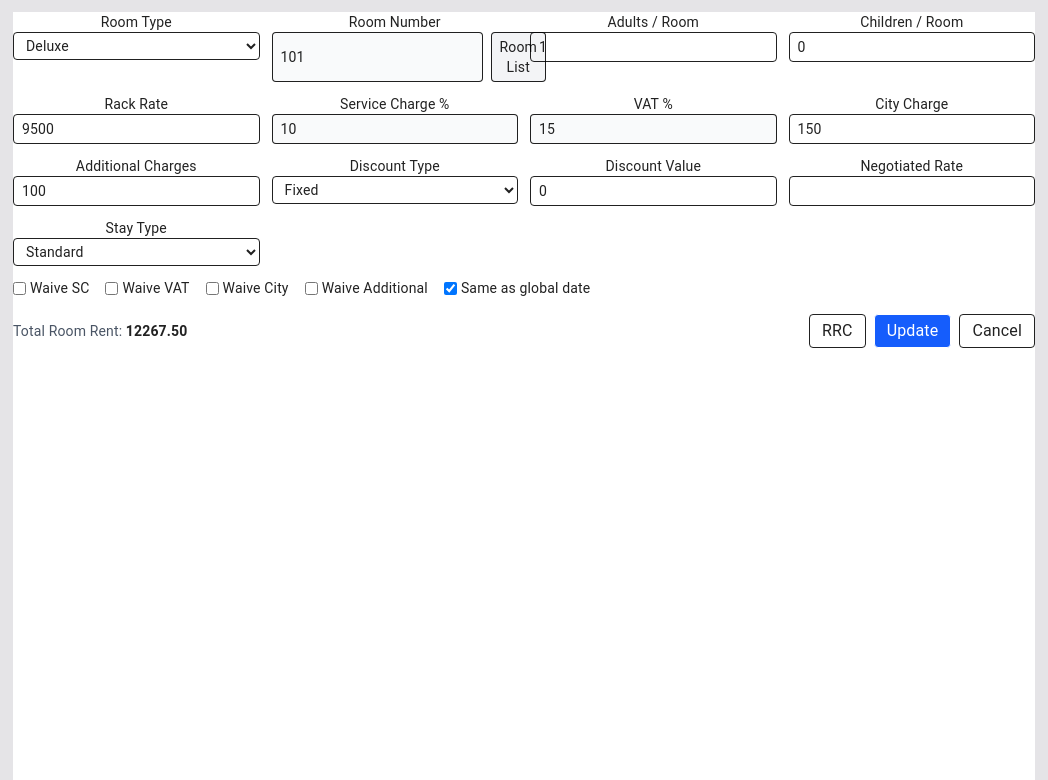
Test case: RoomForm discount cap (BR-REG-005) › BR-REG-005 error surfaces when Fixed discount > Rack Rate
Replace the text in the number field below "Discount Value" with "99999" at (653, 191), box left=530, top=176, right=776, bottom=206
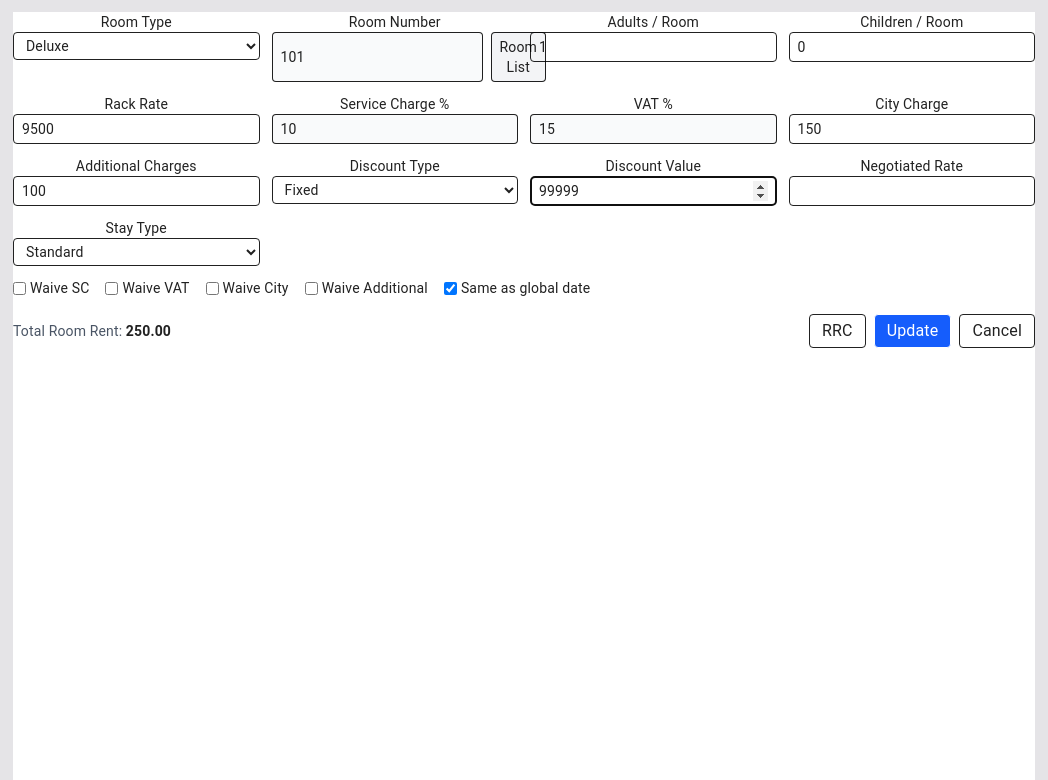
Click the button "Update" at (913, 331), box left=874, top=314, right=951, bottom=348
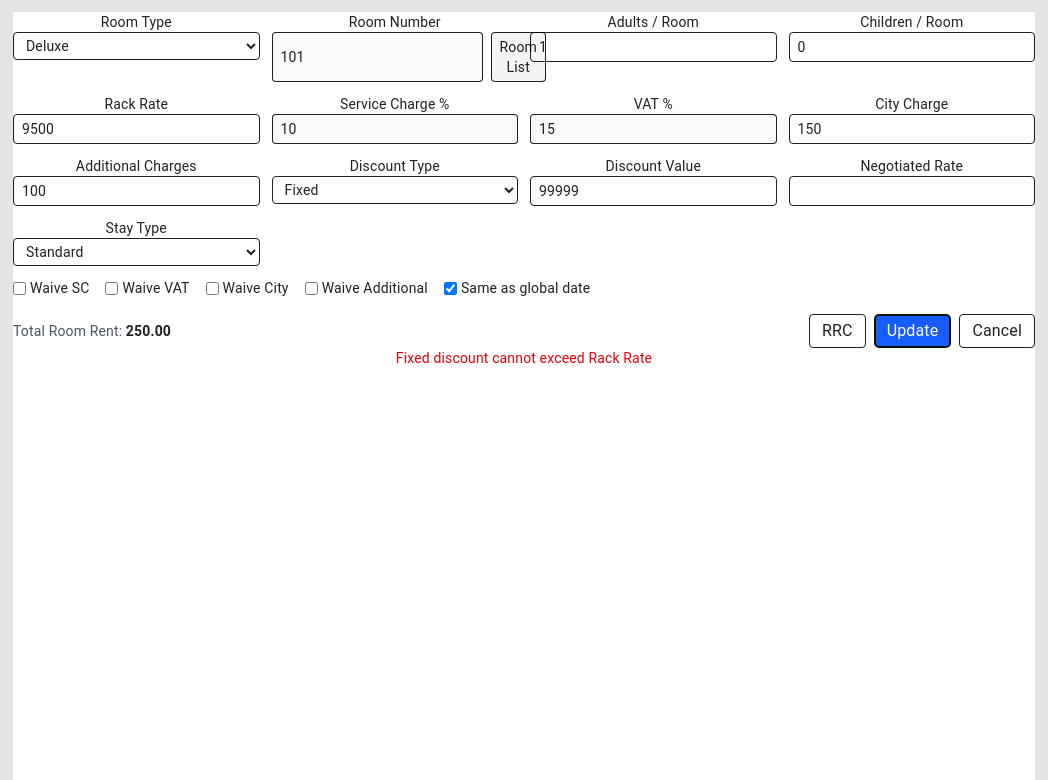
expect the text "Fixed discount cannot exceed Rack Rate" is shown: met, box left=396, top=350, right=652, bottom=366
